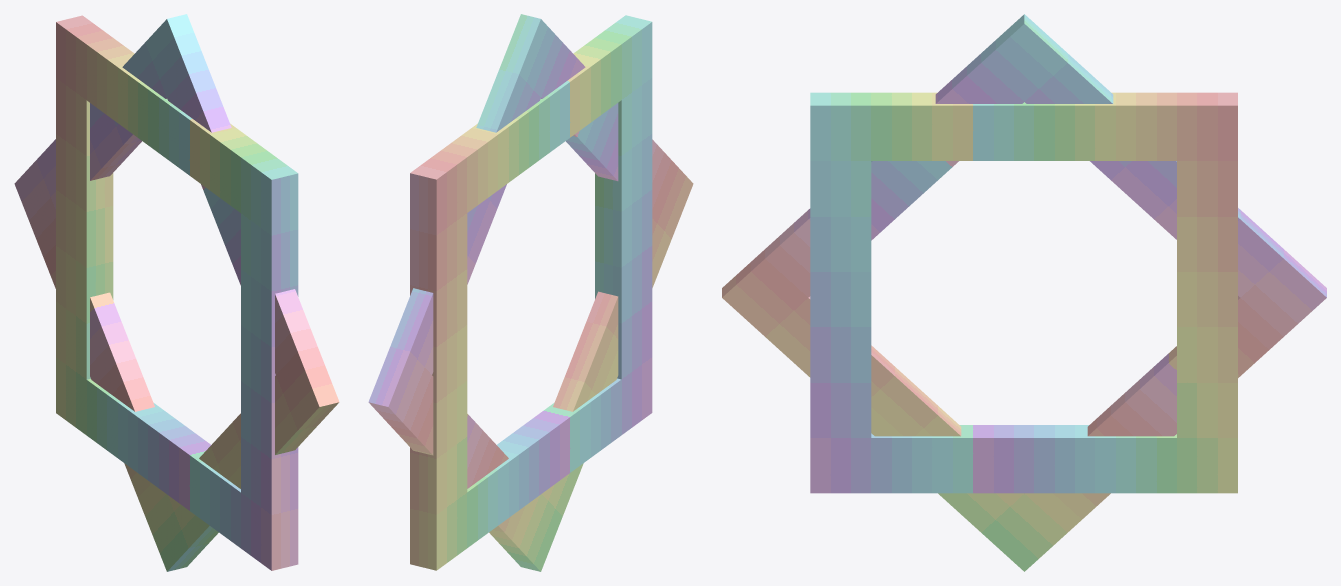
The model's file is conjured_stonecutter_blade.obj.
3 renders of one model, left to right at view 1: azimuth 30°, elevation 25°; view 2: azimuth 150°, elevation 25°; view 3: azimuth 270°, elevation 25°, orthographic.
Parts seen in each view (by area): view 1: STONECUTTER_BLADE_Cube.006; view 2: STONECUTTER_BLADE_Cube.006; view 3: STONECUTTER_BLADE_Cube.006.
Part boxes in pixels (x1,y1,x2,y2): STONECUTTER_BLADE_Cube.006: (14,14,339,571); STONECUTTER_BLADE_Cube.006: (368,14,693,571); STONECUTTER_BLADE_Cube.006: (722,14,1326,571).
Size of the model in its own units: 0.0312 by 0.6187 by 0.6187.
